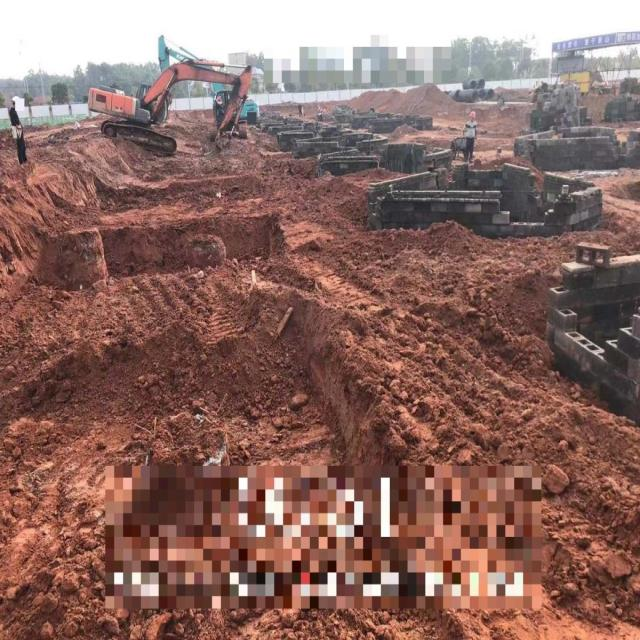excavator: (80, 24, 262, 159), (148, 24, 266, 142)
